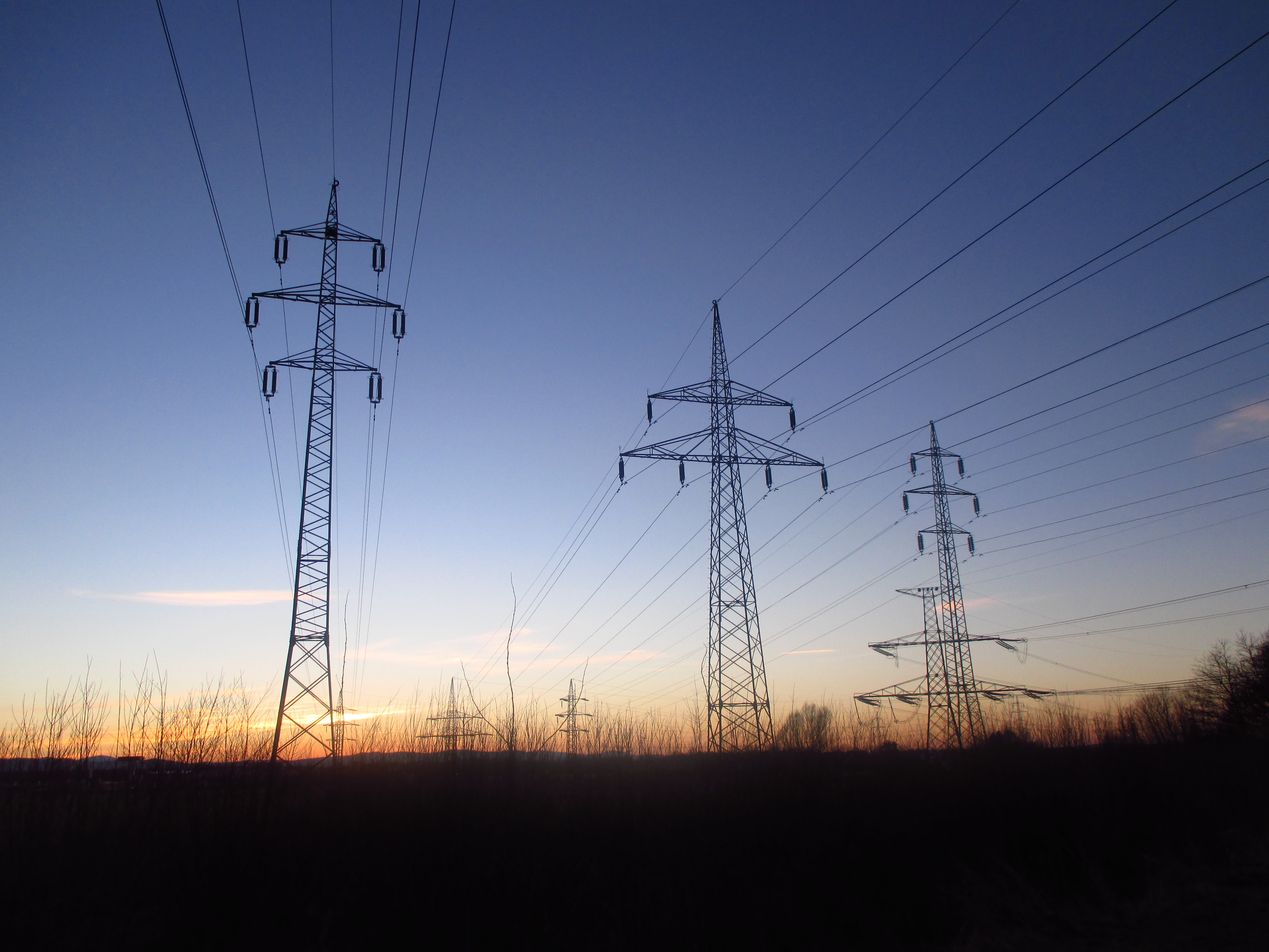insulator: (240, 292, 264, 331), (259, 364, 280, 401), (274, 230, 291, 271), (760, 458, 777, 497), (675, 454, 692, 490), (367, 369, 382, 409), (390, 307, 406, 343), (818, 463, 834, 498), (614, 452, 629, 486), (643, 395, 657, 428), (372, 243, 386, 273), (900, 489, 914, 517), (913, 532, 928, 557), (953, 455, 967, 481), (905, 452, 920, 476), (971, 494, 983, 523), (965, 533, 979, 557), (788, 401, 797, 437)
